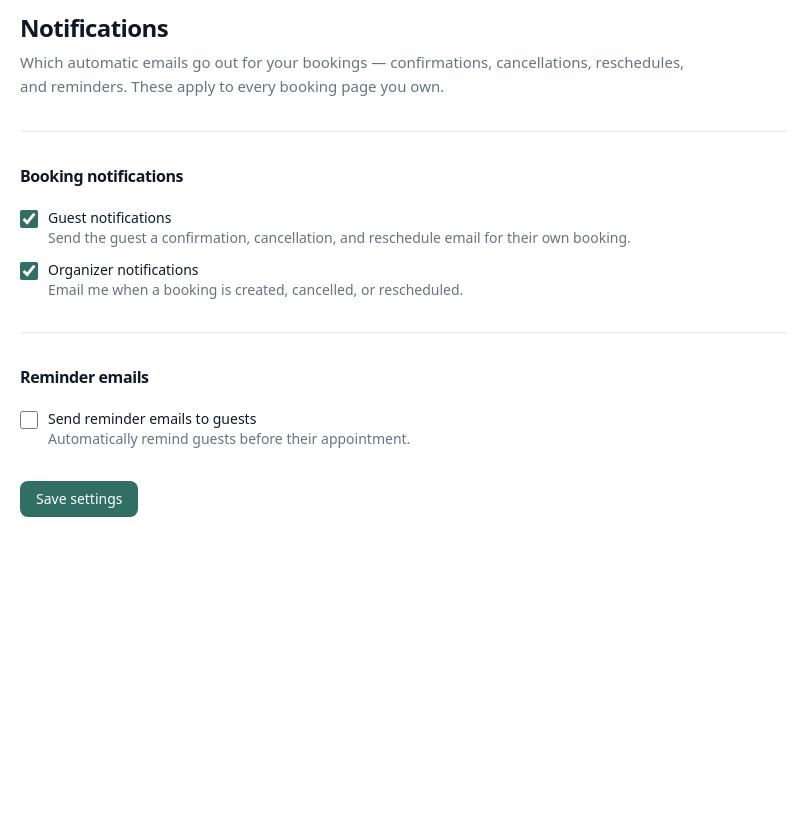
Test: NotificationSettingsPage › reveals the reminder controls when reminders are switched on
Click the checkbox labelled "Send reminder emails to guests": (29, 420) [20, 411, 38, 429]
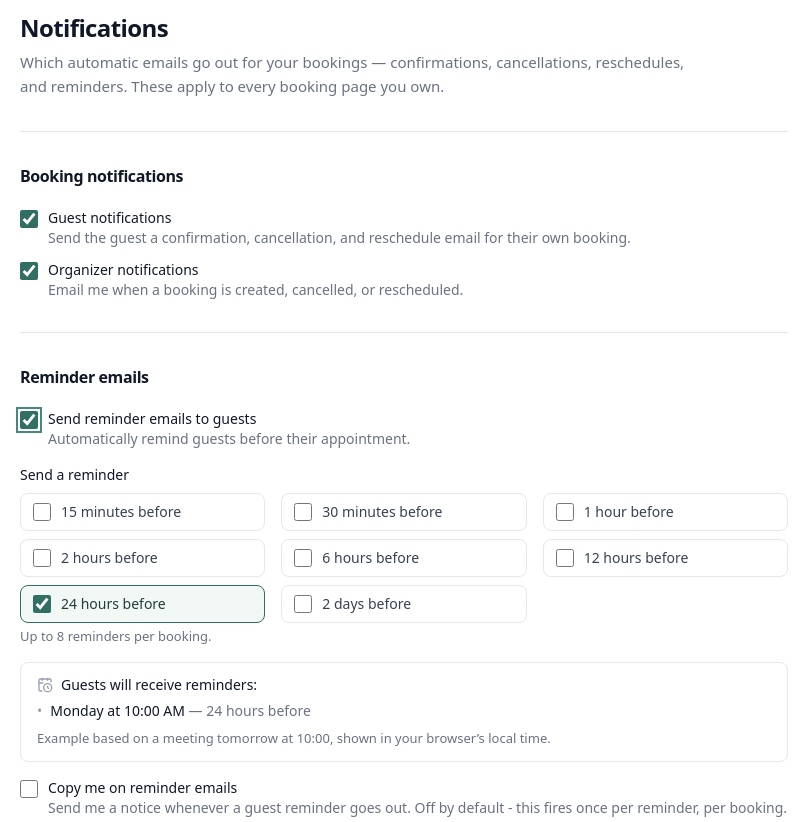
Expected: the checkbox labelled "24 hours before" is shown, [33, 595, 51, 613]
